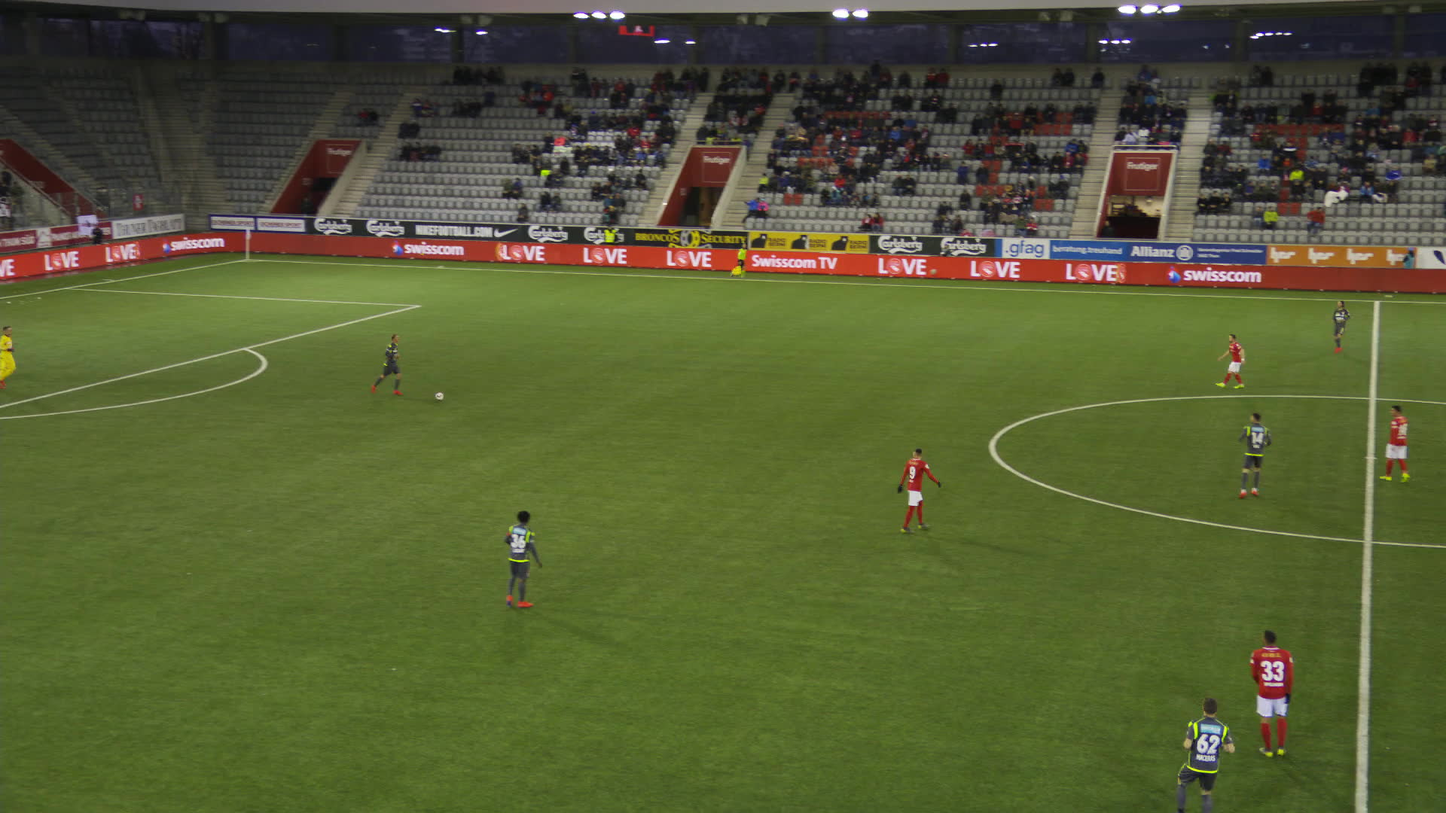ball: (435, 392, 442, 399)
player: (1171, 693, 1236, 812), (1246, 627, 1295, 759), (895, 448, 941, 534), (502, 509, 542, 607), (1234, 410, 1271, 498), (1377, 402, 1411, 483), (1215, 334, 1252, 390), (373, 334, 402, 397), (1328, 300, 1353, 355), (0, 326, 18, 388)
referee: (731, 243, 750, 278)
